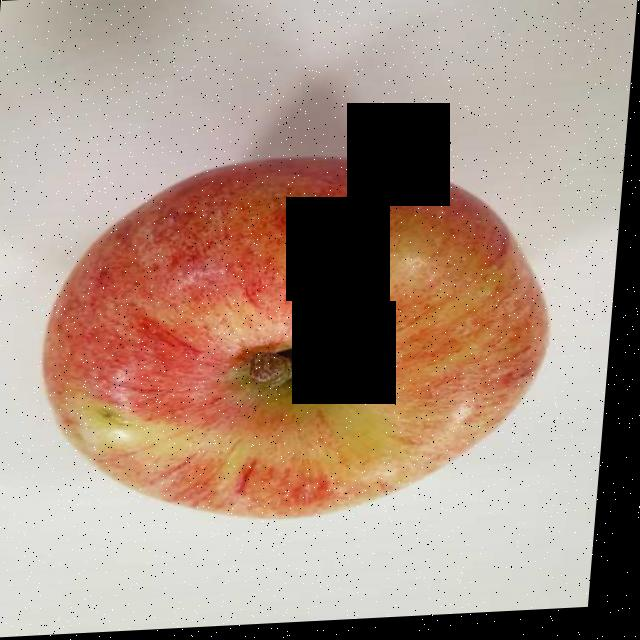apple: (56, 167, 544, 516)
